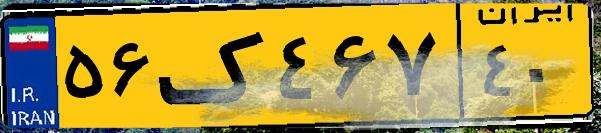0: (525, 38, 570, 115)
4: (270, 28, 330, 110), (475, 38, 525, 113)
5: (57, 26, 110, 100)
6: (330, 28, 385, 110), (110, 28, 158, 98)
7: (385, 28, 445, 110)
ک: (158, 12, 270, 120)
